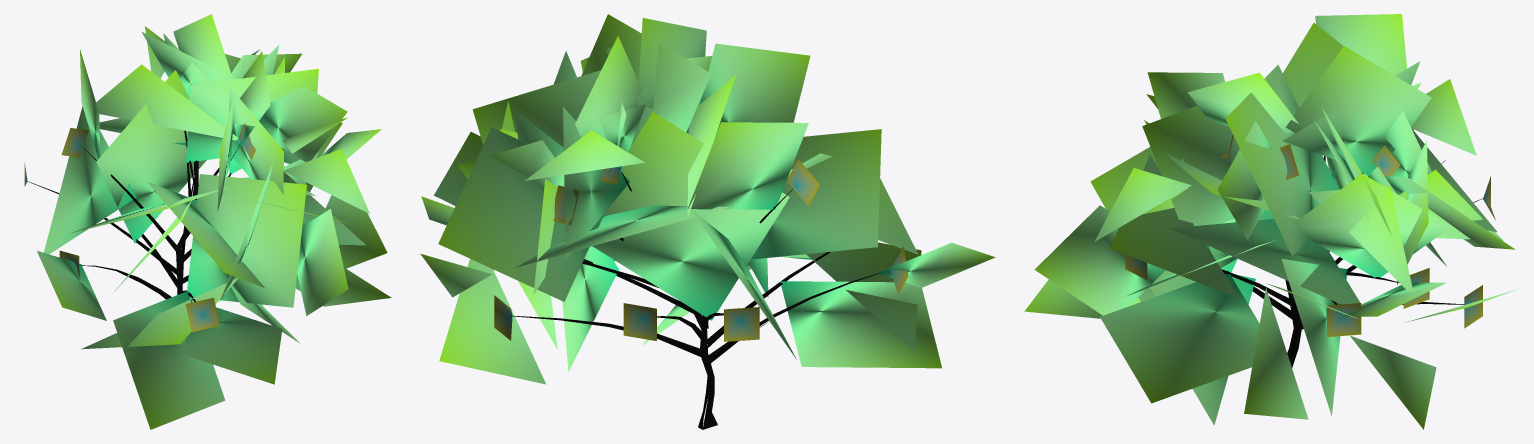
The model's file is SM_Blue_mauritius03.gltf.
3 renders of one model, left to right at view 1: azimuth 30°, elevation 25°; view 2: azimuth 150°, elevation 25°; view 3: azimuth 270°, elevation 25°, orthographic. The views are drawn at different scales.
Parts seen in each view (by area): view 1: SM_Blue_mauritius03; view 2: SM_Blue_mauritius03; view 3: SM_Blue_mauritius03.
Part boxes in pixels (bbox=[...]): SM_Blue_mauritius03: bbox=[24, 14, 391, 429]; SM_Blue_mauritius03: bbox=[420, 14, 995, 429]; SM_Blue_mauritius03: bbox=[1024, 14, 1516, 429].
Size of the model in its own units: 1.17 by 0.9686 by 1.12.
